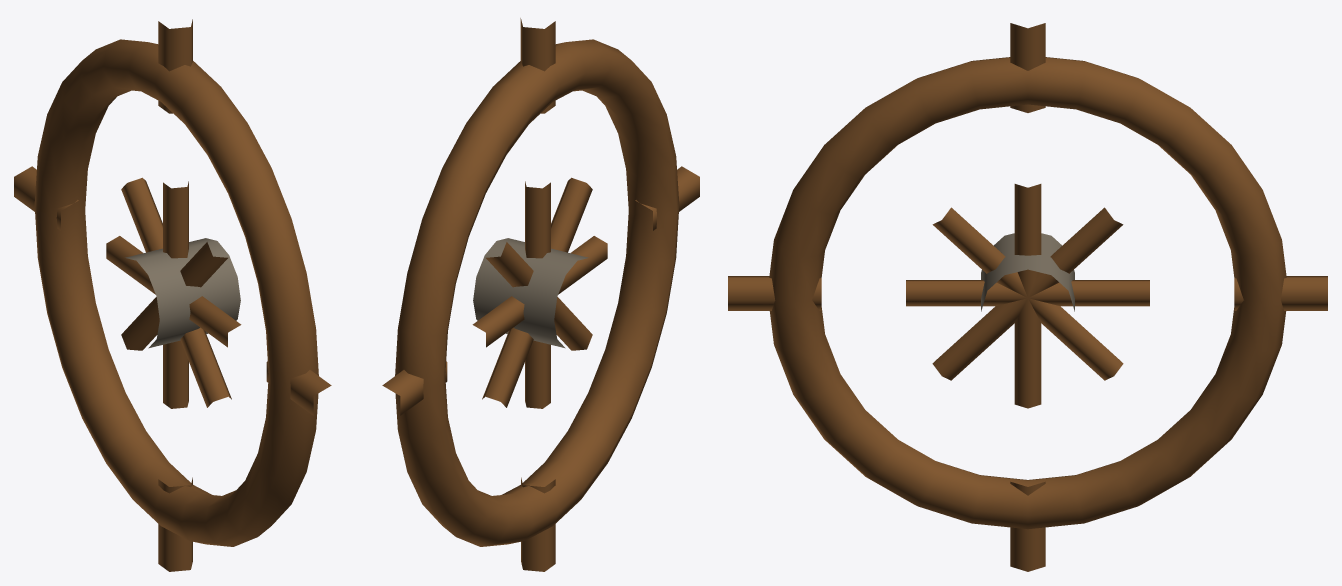
Rendered from ship_wheel.glb.
3 renders of one model, left to right at view 1: azimuth 30°, elevation 25°; view 2: azimuth 150°, elevation 25°; view 3: azimuth 270°, elevation 25°, orthographic.
Visible parts, largest first — view 1: ship_wheel; view 2: ship_wheel; view 3: ship_wheel.
Part boxes in pixels (left/top/right/bottom): ship_wheel: left=14, top=19, right=331, bottom=571; ship_wheel: left=382, top=18, right=699, bottom=571; ship_wheel: left=728, top=23, right=1327, bottom=571.
Size of the model in its own units: 0.1 by 0.64 by 0.64.
